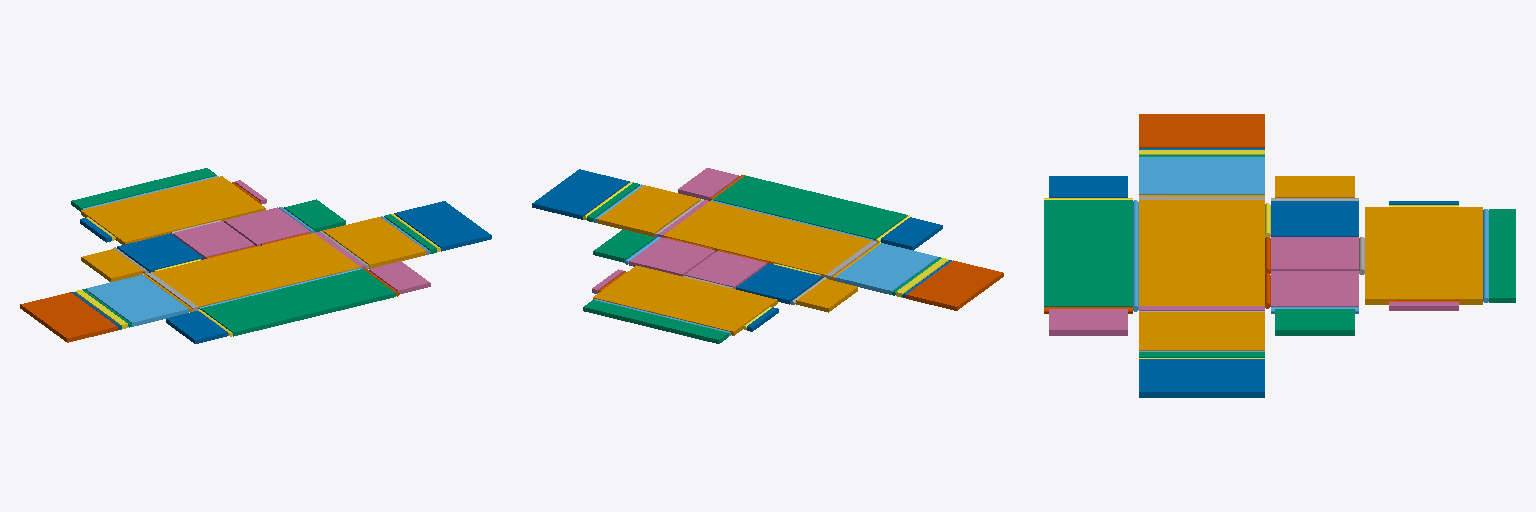
--- What the picture shows (computed from the rendered views, not written in the file) ---
3 views of the same robot in one strip: view 1: azimuth 30°, elevation 25°; view 2: azimuth 150°, elevation 25°; view 3: azimuth 270°, elevation 25° (orthographic).
Model box with 39 links and 38 joints (18 revolute, 20 fixed), rooted at bottom, posed every joint at zero.
Links seen in each view (by area): view 1: bottom, Ztop, sideB, B1, B3, B2, B4, sideARIGHT, sideALEFT, ZsideA, ZT3, sideB1 (+3 smaller); view 2: bottom, Ztop, sideB, B1, B3, B2, B4, sideALEFT, ZT3, sideARIGHT, ZsideA, sideA1 (+3 smaller); view 3: bottom, Ztop, sideB, B3, B4, B1, B2, sideALEFT, sideARIGHT, ZsideA, ZT3, sideA2 (+9 smaller).
Link boxes in pixels (x1=…): bottom: x1=152, y1=233, x2=360, y2=307; Ztop: x1=81, y1=176, x2=265, y2=244; sideB: x1=201, y1=269, x2=395, y2=336; B1: x1=85, y1=275, x2=188, y2=326; B3: x1=323, y1=217, x2=426, y2=268; B2: x1=20, y1=292, x2=117, y2=342; B4: x1=394, y1=201, x2=491, y2=251; sideARIGHT: x1=224, y1=207, x2=310, y2=246; sideALEFT: x1=117, y1=233, x2=202, y2=272; ZsideA: x1=173, y1=221, x2=254, y2=259; ZT3: x1=71, y1=168, x2=216, y2=211; sideB1: x1=166, y1=311, x2=227, y2=343; bottom: x1=663, y1=201, x2=871, y2=277; Ztop: x1=593, y1=265, x2=777, y2=335; sideB: x1=713, y1=175, x2=907, y2=239; B1: x1=835, y1=243, x2=938, y2=294; B3: x1=597, y1=185, x2=700, y2=236; B2: x1=906, y1=260, x2=1003, y2=310; B4: x1=532, y1=169, x2=629, y2=219; sideALEFT: x1=736, y1=264, x2=822, y2=304; ZT3: x1=583, y1=300, x2=728, y2=343; sideARIGHT: x1=629, y1=237, x2=714, y2=276; ZsideA: x1=685, y1=251, x2=766, y2=288; sideA1: x1=796, y1=279, x2=857, y2=312; bottom: x1=1139, y1=200, x2=1264, y2=305; Ztop: x1=1365, y1=207, x2=1482, y2=304; sideB: x1=1044, y1=200, x2=1132, y2=306; B3: x1=1139, y1=312, x2=1264, y2=350; B4: x1=1139, y1=359, x2=1264, y2=397; B1: x1=1139, y1=157, x2=1264, y2=194; B2: x1=1139, y1=114, x2=1264, y2=147; sideALEFT: x1=1271, y1=201, x2=1358, y2=236; sideARIGHT: x1=1271, y1=271, x2=1358, y2=306; ZsideA: x1=1271, y1=237, x2=1358, y2=270; ZT3: x1=1489, y1=209, x2=1515, y2=302; sideA2: x1=1275, y1=309, x2=1354, y2=335.
Size in the robot's own frame: 5.23 by 3.75 by 0.0516 metres.
Geometry: primitives only (box / cylinder / sphere), no mesh files.

URDF robot description (box):
<?xml version="1.0"?>
<robot name="box">
 <link name="bottom">
  <inertial>
    <mass value="1"/>
    <inertia ixx="0.3335416666666667" ixy="0" ixz="0" iyy="0.41666666666666663" iyz="0" izz="0.08354166666666665"/>
  </inertial>
  <visual>
    <origin rpy="0 0 0" xyz="0 0 0"/>
    <geometry>
      <box size="2.0 1.0 0.05"/>
    </geometry>
  </visual>
  <collision>
    <origin rpy="0 0 0" xyz="0 0 0"/>
    <geometry>
      <box size="2.0 1.0 0.05"/>
    </geometry>
  </collision>
 </link>

 <link name="bottom-sideB">
  <inertial>
    <mass value="1"/>
    <inertia ixx="0.33348958333333334" ixy="0" ixz="0" iyy="0.33348958333333334" iyz="0" izz="0.00015625000000000003"/>
  </inertial>
  <visual>
    <origin rpy="0 1.57 0" xyz="0 -0.525 0"/>
    <geometry>
      <cylinder length="2.0" radius="0.025"/>
    </geometry>
  </visual>
  <collision>
    <origin rpy="0 1.57 0" xyz="0 -0.525 0"/>
    <geometry>
      <cylinder length="2.0" radius="0.025"/>
    </geometry>
  </collision>
 </link>

<joint name="joint_fixed_bottom_bottom-sideB" type="fixed">
  <origin rpy="0 0 0" xyz="0 0 0"/>
  <parent link="bottom"/>
  <child link="bottom-sideB"/>
</joint>

 <link name="sideB">
  <inertial>
    <mass value="1"/>
    <inertia ixx="0.3335416666666667" ixy="0" ixz="0" iyy="0.37416666666666665" iyz="0" izz="0.04104166666666666"/>
  </inertial>
  <visual>
    <origin rpy="0 0 0" xyz="0 -0.375 0"/>
    <geometry>
      <box size="2.0 0.7 0.05"/>
    </geometry>
  </visual>
  <collision>
    <origin rpy="0 0 0" xyz="0 -0.375 0"/>
    <geometry>
      <box size="2.0 0.7 0.05"/>
    </geometry>
  </collision>
 </link>

<joint name="joint_revolute_bottom-sideB_sideB_Z" type="revolute">
  <origin rpy="0 0 0" xyz="0 -0.525 0"/>
  <parent link="bottom-sideB"/>
  <child link="sideB"/>
  <axis xyz="1 0 0"/>
  <dynamics damping="0.01" friction="0.5"/>
  <limit lower="-1.57" upper="1.57" effort="0.01" velocity="100"/>
</joint>

 <link name="bottom-sideALEFT">
  <inertial>
    <mass value="1"/>
    <inertia ixx="0.02628958333333334" ixy="0" ixz="0" iyy="0.02628958333333334" iyz="0" izz="0.00015625000000000003"/>
  </inertial>
  <visual>
    <origin rpy="0 1.57 0" xyz="-0.66 0.525 0"/>
    <geometry>
      <cylinder length="0.56" radius="0.025"/>
    </geometry>
  </visual>
  <collision>
    <origin rpy="0 1.57 0" xyz="-0.66 0.525 0"/>
    <geometry>
      <cylinder length="0.56" radius="0.025"/>
    </geometry>
  </collision>
 </link>

<joint name="joint_fixed_bottom_bottom-sideALEFT" type="fixed">
  <origin rpy="0 0 0" xyz="0 0 0"/>
  <parent link="bottom"/>
  <child link="bottom-sideALEFT"/>
</joint>

 <link name="sideALEFT">
  <inertial>
    <mass value="1"/>
    <inertia ixx="0.03650833333333334" ixy="0" ixz="0" iyy="0.07713333333333333" iyz="0" izz="0.04104166666666666"/>
  </inertial>
  <visual>
    <origin rpy="0 0 0" xyz="-0.66 0.375 0"/>
    <geometry>
      <box size="0.66 0.7 0.05"/>
    </geometry>
  </visual>
  <collision>
    <origin rpy="0 0 0" xyz="-0.66 0.375 0"/>
    <geometry>
      <box size="0.66 0.7 0.05"/>
    </geometry>
  </collision>
 </link>

<joint name="joint_revolute_bottom-sideALEFT_sideALEFT_Z" type="revolute">
  <origin rpy="0 0 0" xyz="0 0.525 0"/>
  <parent link="bottom-sideALEFT"/>
  <child link="sideALEFT"/>
  <axis xyz="1 0 0"/>
  <dynamics damping="0.01" friction="0.5"/>
  <limit lower="-1.57" upper="1.57" effort="0.01" velocity="100"/>
</joint>

 <link name="bottom-sideARIGHT">
  <inertial>
    <mass value="1"/>
    <inertia ixx="0.02628958333333334" ixy="0" ixz="0" iyy="0.02628958333333334" iyz="0" izz="0.00015625000000000003"/>
  </inertial>
  <visual>
    <origin rpy="0 1.57 0" xyz="0.66 0.525 0"/>
    <geometry>
      <cylinder length="0.56" radius="0.025"/>
    </geometry>
  </visual>
  <collision>
    <origin rpy="0 1.57 0" xyz="0.66 0.525 0"/>
    <geometry>
      <cylinder length="0.56" radius="0.025"/>
    </geometry>
  </collision>
 </link>

<joint name="joint_fixed_bottom_bottom-sideARIGHT" type="fixed">
  <origin rpy="0 0 0" xyz="0 0 0"/>
  <parent link="bottom"/>
  <child link="bottom-sideARIGHT"/>
</joint>

 <link name="sideARIGHT">
  <inertial>
    <mass value="1"/>
    <inertia ixx="0.03650833333333334" ixy="0" ixz="0" iyy="0.07713333333333333" iyz="0" izz="0.04104166666666666"/>
  </inertial>
  <visual>
    <origin rpy="0 0 0" xyz="0.66 0.375 0"/>
    <geometry>
      <box size="0.66 0.7 0.05"/>
    </geometry>
  </visual>
  <collision>
    <origin rpy="0 0 0" xyz="0.66 0.375 0"/>
    <geometry>
      <box size="0.66 0.7 0.05"/>
    </geometry>
  </collision>
 </link>

<joint name="joint_revolute_bottom-sideARIGHT_sideARIGHT_Z" type="revolute">
  <origin rpy="0 0 0" xyz="0 0.525 0"/>
  <parent link="bottom-sideARIGHT"/>
  <child link="sideARIGHT"/>
  <axis xyz="1 0 0"/>
  <dynamics damping="0.01" friction="0.5"/>
  <limit lower="-1.57" upper="1.57" effort="0.01" velocity="100"/>
</joint>

 <link name="sideA-left">
  <inertial>
    <mass value="1"/>
    <inertia ixx="0.04098958333333332" ixy="0" ixz="0" iyy="0.04098958333333332" iyz="0" izz="0.00015625000000000003"/>
  </inertial>
  <visual>
    <origin rpy="1.57 0 0" xyz="-1.025 0 0"/>
    <geometry>
      <cylinder length="0.7" radius="0.025"/>
    </geometry>
  </visual>
  <collision>
    <origin rpy="1.57 0 0" xyz="-1.025 0 0"/>
    <geometry>
      <cylinder length="0.7" radius="0.025"/>
    </geometry>
  </collision>
 </link>

<joint name="joint_fixed_sideALEFT_sideA-left" type="fixed">
  <origin rpy="0 0 0" xyz="0 0.375 0"/>
  <parent link="sideALEFT"/>
  <child link="sideA-left"/>
</joint>

 <link name="sideA1">
  <inertial>
    <mass value="1"/>
    <inertia ixx="0.013541666666666669" ixy="0" ixz="0" iyy="0.046408333333333336" iyz="0" izz="0.03328333333333333"/>
  </inertial>
  <visual>
    <origin rpy="0 0 0" xyz="-0.225 0 0"/>
    <geometry>
      <box size="0.4 0.63 0.05"/>
    </geometry>
  </visual>
  <collision>
    <origin rpy="0 0 0" xyz="-0.225 0 0"/>
    <geometry>
      <box size="0.4 0.63 0.05"/>
    </geometry>
  </collision>
 </link>

<joint name="joint_revolute_sideA-left_sideA1_Z" type="revolute">
  <origin rpy="0 0 0" xyz="-1.025 0 0"/>
  <parent link="sideA-left"/>
  <child link="sideA1"/>
  <axis xyz="0 1 0"/>
  <dynamics damping="0.01" friction="0.5"/>
  <limit lower="-1.57" upper="1.57" effort="0.01" velocity="100"/>
</joint>

 <link name="sideA-right">
  <inertial>
    <mass value="1"/>
    <inertia ixx="0.04098958333333332" ixy="0" ixz="0" iyy="0.04098958333333332" iyz="0" izz="0.00015625000000000003"/>
  </inertial>
  <visual>
    <origin rpy="1.57 0 0" xyz="1.025 0 0"/>
    <geometry>
      <cylinder length="0.7" radius="0.025"/>
    </geometry>
  </visual>
  <collision>
    <origin rpy="1.57 0 0" xyz="1.025 0 0"/>
    <geometry>
      <cylinder length="0.7" radius="0.025"/>
    </geometry>
  </collision>
 </link>

<joint name="joint_fixed_sideARIGHT_sideA-right" type="fixed">
  <origin rpy="0 0 0" xyz="0 0.375 0"/>
  <parent link="sideARIGHT"/>
  <child link="sideA-right"/>
</joint>

 <link name="sideA2">
  <inertial>
    <mass value="1"/>
    <inertia ixx="0.013541666666666669" ixy="0" ixz="0" iyy="0.046408333333333336" iyz="0" izz="0.03328333333333333"/>
  </inertial>
  <visual>
    <origin rpy="0 0 0" xyz="0.225 0 0"/>
    <geometry>
      <box size="0.4 0.63 0.05"/>
    </geometry>
  </visual>
  <collision>
    <origin rpy="0 0 0" xyz="0.225 0 0"/>
    <geometry>
      <box size="0.4 0.63 0.05"/>
    </geometry>
  </collision>
 </link>

<joint name="joint_revolute_sideA-right_sideA2_Z" type="revolute">
  <origin rpy="0 0 0" xyz="1.025 0 0"/>
  <parent link="sideA-right"/>
  <child link="sideA2"/>
  <axis xyz="0 1 0"/>
  <dynamics damping="0.01" friction="0.5"/>
  <limit lower="-1.57" upper="1.57" effort="0.01" velocity="100"/>
</joint>

 <link name="sideB-left">
  <inertial>
    <mass value="1"/>
    <inertia ixx="0.04098958333333332" ixy="0" ixz="0" iyy="0.04098958333333332" iyz="0" izz="0.00015625000000000003"/>
  </inertial>
  <visual>
    <origin rpy="1.57 0 0" xyz="-1.025 0 0"/>
    <geometry>
      <cylinder length="0.7" radius="0.025"/>
    </geometry>
  </visual>
  <collision>
    <origin rpy="1.57 0 0" xyz="-1.025 0 0"/>
    <geometry>
      <cylinder length="0.7" radius="0.025"/>
    </geometry>
  </collision>
 </link>

<joint name="joint_fixed_sideB_sideB-left" type="fixed">
  <origin rpy="0 0 0" xyz="0 -0.375 0"/>
  <parent link="sideB"/>
  <child link="sideB-left"/>
</joint>

 <link name="sideB1">
  <inertial>
    <mass value="1"/>
    <inertia ixx="0.013541666666666669" ixy="0" ixz="0" iyy="0.046408333333333336" iyz="0" izz="0.03328333333333333"/>
  </inertial>
  <visual>
    <origin rpy="0 0 0" xyz="-0.225 0 0"/>
    <geometry>
      <box size="0.4 0.63 0.05"/>
    </geometry>
  </visual>
  <collision>
    <origin rpy="0 0 0" xyz="-0.225 0 0"/>
    <geometry>
      <box size="0.4 0.63 0.05"/>
    </geometry>
  </collision>
 </link>

<joint name="joint_revolute_sideB-left_sideB1_Z" type="revolute">
  <origin rpy="0 0 0" xyz="-1.025 0 0"/>
  <parent link="sideB-left"/>
  <child link="sideB1"/>
  <axis xyz="0 1 0"/>
  <dynamics damping="0.01" friction="0.5"/>
  <limit lower="-1.57" upper="1.57" effort="0.01" velocity="100"/>
</joint>

 <link name="sideB-right">
  <inertial>
    <mass value="1"/>
    <inertia ixx="0.04098958333333332" ixy="0" ixz="0" iyy="0.04098958333333332" iyz="0" izz="0.00015625000000000003"/>
  </inertial>
  <visual>
    <origin rpy="1.57 0 0" xyz="1.025 0 0"/>
    <geometry>
      <cylinder length="0.7" radius="0.025"/>
    </geometry>
  </visual>
  <collision>
    <origin rpy="1.57 0 0" xyz="1.025 0 0"/>
    <geometry>
      <cylinder length="0.7" radius="0.025"/>
    </geometry>
  </collision>
 </link>

<joint name="joint_fixed_sideB_sideB-right" type="fixed">
  <origin rpy="0 0 0" xyz="0 -0.375 0"/>
  <parent link="sideB"/>
  <child link="sideB-right"/>
</joint>

 <link name="sideB2">
  <inertial>
    <mass value="1"/>
    <inertia ixx="0.013541666666666669" ixy="0" ixz="0" iyy="0.046408333333333336" iyz="0" izz="0.03328333333333333"/>
  </inertial>
  <visual>
    <origin rpy="0 0 0" xyz="0.225 0 0"/>
    <geometry>
      <box size="0.4 0.63 0.05"/>
    </geometry>
  </visual>
  <collision>
    <origin rpy="0 0 0" xyz="0.225 0 0"/>
    <geometry>
      <box size="0.4 0.63 0.05"/>
    </geometry>
  </collision>
 </link>

<joint name="joint_revolute_sideB-right_sideB2_Z" type="revolute">
  <origin rpy="0 0 0" xyz="1.025 0 0"/>
  <parent link="sideB-right"/>
  <child link="sideB2"/>
  <axis xyz="0 1 0"/>
  <dynamics damping="0.01" friction="0.5"/>
  <limit lower="-1.57" upper="1.57" effort="0.01" velocity="100"/>
</joint>

 <link name="padB1">
  <inertial>
    <mass value="1"/>
    <inertia ixx="0.0005604166666666667" ixy="0" ixz="0" iyy="0.08368541666666665" iyz="0" izz="0.08354166666666665"/>
  </inertial>
  <visual>
    <origin rpy="0 0 0" xyz="-1.0325 0 0"/>
    <geometry>
      <box size="0.065 1.0 0.05"/>
    </geometry>
  </visual>
  <collision>
    <origin rpy="0 0 0" xyz="-1.0325 0 0"/>
    <geometry>
      <box size="0.065 1.0 0.05"/>
    </geometry>
  </collision>
 </link>

<joint name="joint_fixed_bottom_padB1" type="fixed">
  <origin rpy="0 0 0" xyz="0 0 0"/>
  <parent link="bottom"/>
  <child link="padB1"/>
</joint>

 <link name="padB-cylinder">
  <inertial>
    <mass value="1"/>
    <inertia ixx="0.08348958333333333" ixy="0" ixz="0" iyy="0.08348958333333333" iyz="0" izz="0.00015625000000000003"/>
  </inertial>
  <visual>
    <origin rpy="1.57 0 0" xyz="-1.0899999999999999 0 0"/>
    <geometry>
      <cylinder length="1.0" radius="0.025"/>
    </geometry>
  </visual>
  <collision>
    <origin rpy="1.57 0 0" xyz="-1.0899999999999999 0 0"/>
    <geometry>
      <cylinder length="1.0" radius="0.025"/>
    </geometry>
  </collision>
 </link>

<joint name="joint_fixed_padB1_padB-cylinder" type="fixed">
  <origin rpy="0 0 0" xyz="0 0 0"/>
  <parent link="padB1"/>
  <child link="padB-cylinder"/>
</joint>

 <link name="B1">
  <inertial>
    <mass value="1"/>
    <inertia ixx="0.04104166666666666" ixy="0" ixz="0" iyy="0.12416666666666666" iyz="0" izz="0.08354166666666665"/>
  </inertial>
  <visual>
    <origin rpy="0 0 0" xyz="-0.375 0 0"/>
    <geometry>
      <box size="0.7 1.0 0.05"/>
    </geometry>
  </visual>
  <collision>
    <origin rpy="0 0 0" xyz="-0.375 0 0"/>
    <geometry>
      <box size="0.7 1.0 0.05"/>
    </geometry>
  </collision>
 </link>

<joint name="joint_revolute_padB-cylinder_B1_Z" type="revolute">
  <origin rpy="0 0 0" xyz="-1.0899999999999999 0 0"/>
  <parent link="padB-cylinder"/>
  <child link="B1"/>
  <axis xyz="0 1 0"/>
  <dynamics damping="0.01" friction="0.5"/>
  <limit lower="-1.57" upper="1.57" effort="0.01" velocity="100"/>
</joint>

 <link name="padB2-cylinder">
  <inertial>
    <mass value="1"/>
    <inertia ixx="0.08348958333333333" ixy="0" ixz="0" iyy="0.08348958333333333" iyz="0" izz="0.00015625000000000003"/>
  </inertial>
  <visual>
    <origin rpy="1.57 0 0" xyz="-0.375 0 0"/>
    <geometry>
      <cylinder length="1.0" radius="0.025"/>
    </geometry>
  </visual>
  <collision>
    <origin rpy="1.57 0 0" xyz="-0.375 0 0"/>
    <geometry>
      <cylinder length="1.0" radius="0.025"/>
    </geometry>
  </collision>
 </link>

<joint name="joint_fixed_B1_padB2-cylinder" type="fixed">
  <origin rpy="0 0 0" xyz="-0.375 0 0"/>
  <parent link="B1"/>
  <child link="padB2-cylinder"/>
</joint>

 <link name="padB2">
  <inertial>
    <mass value="1"/>
    <inertia ixx="0.0007416666666666667" ixy="0" ixz="0" iyy="0.08386666666666666" iyz="0" izz="0.08354166666666665"/>
  </inertial>
  <visual>
    <origin rpy="0 0 0" xyz="-0.065 0 0"/>
    <geometry>
      <box size="0.08 1.0 0.05"/>
    </geometry>
  </visual>
  <collision>
    <origin rpy="0 0 0" xyz="-0.065 0 0"/>
    <geometry>
      <box size="0.08 1.0 0.05"/>
    </geometry>
  </collision>
 </link>

<joint name="joint_revolute_padB2-cylinder_padB2_Z" type="revolute">
  <origin rpy="0 0 0" xyz="-0.375 0 0"/>
  <parent link="padB2-cylinder"/>
  <child link="padB2"/>
  <axis xyz="0 1 0"/>
  <dynamics damping="0.01" friction="0.5"/>
  <limit lower="-1.57" upper="1.57" effort="0.01" velocity="100"/>
</joint>

 <link name="B2-cylinder">
  <inertial>
    <mass value="1"/>
    <inertia ixx="0.08348958333333333" ixy="0" ixz="0" iyy="0.08348958333333333" iyz="0" izz="0.00015625000000000003"/>
  </inertial>
  <visual>
    <origin rpy="1.57 0 0" xyz="-0.065 0 0"/>
    <geometry>
      <cylinder length="1.0" radius="0.025"/>
    </geometry>
  </visual>
  <collision>
    <origin rpy="1.57 0 0" xyz="-0.065 0 0"/>
    <geometry>
      <cylinder length="1.0" radius="0.025"/>
    </geometry>
  </collision>
 </link>

<joint name="joint_fixed_padB2_B2-cylinder" type="fixed">
  <origin rpy="0 0 0" xyz="-0.065 0 0"/>
  <parent link="padB2"/>
  <child link="B2-cylinder"/>
</joint>

 <link name="B2">
  <inertial>
    <mass value="1"/>
    <inertia ixx="0.03224166666666667" ixy="0" ixz="0" iyy="0.11536666666666667" iyz="0" izz="0.08354166666666665"/>
  </inertial>
  <visual>
    <origin rpy="0 0 0" xyz="-0.335 0 0"/>
    <geometry>
      <box size="0.62 1.0 0.05"/>
    </geometry>
  </visual>
  <collision>
    <origin rpy="0 0 0" xyz="-0.335 0 0"/>
    <geometry>
      <box size="0.62 1.0 0.05"/>
    </geometry>
  </collision>
 </link>

<joint name="joint_revolute_B2-cylinder_B2_Z" type="revolute">
  <origin rpy="0 0 0" xyz="-0.065 0 0"/>
  <parent link="B2-cylinder"/>
  <child link="B2"/>
  <axis xyz="0 1 0"/>
  <dynamics damping="0.01" friction="0.5"/>
  <limit lower="-1.57" upper="1.57" effort="0.01" velocity="100"/>
</joint>

 <link name="padB3">
  <inertial>
    <mass value="1"/>
    <inertia ixx="0.0005604166666666667" ixy="0" ixz="0" iyy="0.08368541666666665" iyz="0" izz="0.08354166666666665"/>
  </inertial>
  <visual>
    <origin rpy="0 0 0" xyz="1.0325 0 0"/>
    <geometry>
      <box size="0.065 1.0 0.05"/>
    </geometry>
  </visual>
  <collision>
    <origin rpy="0 0 0" xyz="1.0325 0 0"/>
    <geometry>
      <box size="0.065 1.0 0.05"/>
    </geometry>
  </collision>
 </link>

<joint name="joint_fixed_bottom_padB3" type="fixed">
  <origin rpy="0 0 0" xyz="0 0 0"/>
  <parent link="bottom"/>
  <child link="padB3"/>
</joint>

 <link name="padB3-cylinder">
  <inertial>
    <mass value="1"/>
    <inertia ixx="0.08348958333333333" ixy="0" ixz="0" iyy="0.08348958333333333" iyz="0" izz="0.00015625000000000003"/>
  </inertial>
  <visual>
    <origin rpy="1.57 0 0" xyz="1.0899999999999999 0 0"/>
    <geometry>
      <cylinder length="1.0" radius="0.025"/>
    </geometry>
  </visual>
  <collision>
    <origin rpy="1.57 0 0" xyz="1.0899999999999999 0 0"/>
    <geometry>
      <cylinder length="1.0" radius="0.025"/>
    </geometry>
  </collision>
 </link>

<joint name="joint_fixed_padB3_padB3-cylinder" type="fixed">
  <origin rpy="0 0 0" xyz="0 0 0"/>
  <parent link="padB3"/>
  <child link="padB3-cylinder"/>
</joint>

 <link name="B3">
  <inertial>
    <mass value="1"/>
    <inertia ixx="0.04104166666666666" ixy="0" ixz="0" iyy="0.12416666666666666" iyz="0" izz="0.08354166666666665"/>
  </inertial>
  <visual>
    <origin rpy="0 0 0" xyz="0.375 0 0"/>
    <geometry>
      <box size="0.7 1.0 0.05"/>
    </geometry>
  </visual>
  <collision>
    <origin rpy="0 0 0" xyz="0.375 0 0"/>
    <geometry>
      <box size="0.7 1.0 0.05"/>
    </geometry>
  </collision>
 </link>

<joint name="joint_revolute_padB3-cylinder_B3_Z" type="revolute">
  <origin rpy="0 0 0" xyz="1.0899999999999999 0 0"/>
  <parent link="padB3-cylinder"/>
  <child link="B3"/>
  <axis xyz="0 1 0"/>
  <dynamics damping="0.01" friction="0.5"/>
  <limit lower="-1.57" upper="1.57" effort="0.01" velocity="100"/>
</joint>

 <link name="padB4-cylinder">
  <inertial>
    <mass value="1"/>
    <inertia ixx="0.08348958333333333" ixy="0" ixz="0" iyy="0.08348958333333333" iyz="0" izz="0.00015625000000000003"/>
  </inertial>
  <visual>
    <origin rpy="1.57 0 0" xyz="0.375 0 0"/>
    <geometry>
      <cylinder length="1.0" radius="0.025"/>
    </geometry>
  </visual>
  <collision>
    <origin rpy="1.57 0 0" xyz="0.375 0 0"/>
    <geometry>
      <cylinder length="1.0" radius="0.025"/>
    </geometry>
  </collision>
 </link>

<joint name="joint_fixed_B3_padB4-cylinder" type="fixed">
  <origin rpy="0 0 0" xyz="0.375 0 0"/>
  <parent link="B3"/>
  <child link="padB4-cylinder"/>
</joint>

 <link name="padB4">
  <inertial>
    <mass value="1"/>
    <inertia ixx="0.0007416666666666667" ixy="0" ixz="0" iyy="0.08386666666666666" iyz="0" izz="0.08354166666666665"/>
  </inertial>
  <visual>
    <origin rpy="0 0 0" xyz="0.065 0 0"/>
    <geometry>
      <box size="0.08 1.0 0.05"/>
    </geometry>
  </visual>
  <collision>
    <origin rpy="0 0 0" xyz="0.065 0 0"/>
    <geometry>
      <box size="0.08 1.0 0.05"/>
    </geometry>
  </collision>
 </link>

<joint name="joint_revolute_padB4-cylinder_padB4_Z" type="revolute">
  <origin rpy="0 0 0" xyz="0.375 0 0"/>
  <parent link="padB4-cylinder"/>
  <child link="padB4"/>
  <axis xyz="0 1 0"/>
  <dynamics damping="0.01" friction="0.5"/>
  <limit lower="-1.57" upper="1.57" effort="0.01" velocity="100"/>
</joint>

 <link name="B4-cylinder">
  <inertial>
    <mass value="1"/>
    <inertia ixx="0.08348958333333333" ixy="0" ixz="0" iyy="0.08348958333333333" iyz="0" izz="0.00015625000000000003"/>
  </inertial>
  <visual>
    <origin rpy="1.57 0 0" xyz="0.065 0 0"/>
    <geometry>
      <cylinder length="1.0" radius="0.025"/>
    </geometry>
  </visual>
  <collision>
    <origin rpy="1.57 0 0" xyz="0.065 0 0"/>
    <geometry>
      <cylinder length="1.0" radius="0.025"/>
    </geometry>
  </collision>
 </link>

<joint name="joint_fixed_padB4_B4-cylinder" type="fixed">
  <origin rpy="0 0 0" xyz="0.065 0 0"/>
  <parent link="padB4"/>
  <child link="B4-cylinder"/>
</joint>

 <link name="B4">
  <inertial>
    <mass value="1"/>
    <inertia ixx="0.03224166666666667" ixy="0" ixz="0" iyy="0.11536666666666667" iyz="0" izz="0.08354166666666665"/>
  </inertial>
  <visual>
    <origin rpy="0 0 0" xyz="0.335 0 0"/>
    <geometry>
      <box size="0.62 1.0 0.05"/>
    </geometry>
  </visual>
  <collision>
    <origin rpy="0 0 0" xyz="0.335 0 0"/>
    <geometry>
      <box size="0.62 1.0 0.05"/>
    </geometry>
  </collision>
 </link>

<joint name="joint_revolute_B4-cylinder_B4_Z" type="revolute">
  <origin rpy="0 0 0" xyz="0.065 0 0"/>
  <parent link="B4-cylinder"/>
  <child link="B4"/>
  <axis xyz="0 1 0"/>
  <dynamics damping="0.01" friction="0.5"/>
  <limit lower="-1.57" upper="1.57" effort="0.01" velocity="100"/>
</joint>

 <link name="zbottom-ZsideA">
  <inertial>
    <mass value="1"/>
    <inertia ixx="0.03116458333333333" ixy="0" ixz="0" iyy="0.03116458333333333" iyz="0" izz="0.00015625000000000003"/>
  </inertial>
  <visual>
    <origin rpy="0 1.57 0" xyz="0 0.525 0"/>
    <geometry>
      <cylinder length="0.61" radius="0.025"/>
    </geometry>
  </visual>
  <collision>
    <origin rpy="0 1.57 0" xyz="0 0.525 0"/>
    <geometry>
      <cylinder length="0.61" radius="0.025"/>
    </geometry>
  </collision>
 </link>

<joint name="joint_fixed_bottom_zbottom-ZsideA" type="fixed">
  <origin rpy="0 0 0" xyz="0 0 0"/>
  <parent link="bottom"/>
  <child link="zbottom-ZsideA"/>
</joint>

 <link name="ZsideA">
  <inertial>
    <mass value="1"/>
    <inertia ixx="0.031216666666666663" ixy="0" ixz="0" iyy="0.07184166666666665" iyz="0" izz="0.04104166666666666"/>
  </inertial>
  <visual>
    <origin rpy="0 0 0" xyz="0 0.375 0"/>
    <geometry>
      <box size="0.61 0.7 0.05"/>
    </geometry>
  </visual>
  <collision>
    <origin rpy="0 0 0" xyz="0 0.375 0"/>
    <geometry>
      <box size="0.61 0.7 0.05"/>
    </geometry>
  </collision>
 </link>

<joint name="joint_revolute_zbottom-ZsideA_ZsideA_Z" type="revolute">
  <origin rpy="0 0 0" xyz="0 0.525 0"/>
  <parent link="zbottom-ZsideA"/>
  <child link="ZsideA"/>
  <axis xyz="1 0 0"/>
  <dynamics damping="0.01" friction="0.5"/>
  <limit lower="-1.57" upper="1.57" effort="0.01" velocity="100"/>
</joint>

 <link name="ZsideA-top">
  <inertial>
    <mass value="1"/>
    <inertia ixx="0.03116458333333333" ixy="0" ixz="0" iyy="0.03116458333333333" iyz="0" izz="0.00015625000000000003"/>
  </inertial>
  <visual>
    <origin rpy="0 1.57 0" xyz="0 0.375 0"/>
    <geometry>
      <cylinder length="0.61" radius="0.025"/>
    </geometry>
  </visual>
  <collision>
    <origin rpy="0 1.57 0" xyz="0 0.375 0"/>
    <geometry>
      <cylinder length="0.61" radius="0.025"/>
    </geometry>
  </collision>
 </link>

<joint name="joint_fixed_ZsideA_ZsideA-top" type="fixed">
  <origin rpy="0 0 0" xyz="0 0.375 0"/>
  <parent link="ZsideA"/>
  <child link="ZsideA-top"/>
</joint>

 <link name="Ztop">
  <inertial>
    <mass value="1"/>
    <inertia ixx="0.25250833333333333" ixy="0" ixz="0" iyy="0.32515208333333334" iyz="0" izz="0.07306041666666667"/>
  </inertial>
  <visual>
    <origin rpy="0 0 0" xyz="0 0.49250000000000005 0"/>
    <geometry>
      <box size="1.74 0.935 0.05"/>
    </geometry>
  </visual>
  <collision>
    <origin rpy="0 0 0" xyz="0 0.49250000000000005 0"/>
    <geometry>
      <box size="1.74 0.935 0.05"/>
    </geometry>
  </collision>
 </link>

<joint name="joint_revolute_ZsideA-top_Ztop_Z" type="revolute">
  <origin rpy="0 0 0" xyz="0 0.375 0"/>
  <parent link="ZsideA-top"/>
  <child link="Ztop"/>
  <axis xyz="1 0 0"/>
  <dynamics damping="0.01" friction="0.5"/>
  <limit lower="-1.57" upper="1.57" effort="0.01" velocity="100"/>
</joint>

 <link name="ZT3-cylinder">
  <inertial>
    <mass value="1"/>
    <inertia ixx="0.23395833333333335" ixy="0" ixz="0" iyy="0.23395833333333335" iyz="0" izz="0.00015625000000000003"/>
  </inertial>
  <visual>
    <origin rpy="0 1.57 0" xyz="0 0.49250000000000005 0"/>
    <geometry>
      <cylinder length="1.675" radius="0.025"/>
    </geometry>
  </visual>
  <collision>
    <origin rpy="0 1.57 0" xyz="0 0.49250000000000005 0"/>
    <geometry>
      <cylinder length="1.675" radius="0.025"/>
    </geometry>
  </collision>
 </link>

<joint name="joint_fixed_Ztop_ZT3-cylinder" type="fixed">
  <origin rpy="0 0 0" xyz="0 0.49250000000000005 0"/>
  <parent link="Ztop"/>
  <child link="ZT3-cylinder"/>
</joint>

 <link name="ZT3">
  <inertial>
    <mass value="1"/>
    <inertia ixx="0.23401041666666667" ixy="0" ixz="0" iyy="0.2374770833333333" iyz="0" izz="0.003883333333333333"/>
  </inertial>
  <visual>
    <origin rpy="0 0 0" xyz="0 0.13 0"/>
    <geometry>
      <box size="1.675 0.21 0.05"/>
    </geometry>
  </visual>
  <collision>
    <origin rpy="0 0 0" xyz="0 0.13 0"/>
    <geometry>
      <box size="1.675 0.21 0.05"/>
    </geometry>
  </collision>
 </link>

<joint name="joint_revolute_ZT3-cylinder_ZT3_Z" type="revolute">
  <origin rpy="0 0 0" xyz="0 0.49250000000000005 0"/>
  <parent link="ZT3-cylinder"/>
  <child link="ZT3"/>
  <axis xyz="1 0 0"/>
  <dynamics damping="0.01" friction="0.5"/>
  <limit lower="-1.57" upper="1.57" effort="0.01" velocity="100"/>
</joint>

 <link name="ZTop-left">
  <inertial>
    <mass value="1"/>
    <inertia ixx="0.026383000000000004" ixy="0" ixz="0" iyy="0.026383000000000004" iyz="0" izz="0.00015625000000000003"/>
  </inertial>
  <visual>
    <origin rpy="1.57 0 0" xyz="-0.895 0.49250000000000005 0"/>
    <geometry>
      <cylinder length="0.561" radius="0.025"/>
    </geometry>
  </visual>
  <collision>
    <origin rpy="1.57 0 0" xyz="-0.895 0.49250000000000005 0"/>
    <geometry>
      <cylinder length="0.561" radius="0.025"/>
    </geometry>
  </collision>
 </link>

<joint name="joint_fixed_Ztop_ZTop-left" type="fixed">
  <origin rpy="0 0 0" xyz="0 0 0"/>
  <parent link="Ztop"/>
  <child link="ZTop-left"/>
</joint>

 <link name="ZT1">
  <inertial>
    <mass value="1"/>
    <inertia ixx="0.0006166666666666666" ixy="0" ixz="0" iyy="0.02663508333333334" iyz="0" izz="0.026435083333333338"/>
  </inertial>
  <visual>
    <origin rpy="0 0 0" xyz="-0.06 0.49250000000000005 0"/>
    <geometry>
      <box size="0.06999999999999999 0.561 0.05"/>
    </geometry>
  </visual>
  <collision>
    <origin rpy="0 0 0" xyz="-0.06 0.49250000000000005 0"/>
    <geometry>
      <box size="0.06999999999999999 0.561 0.05"/>
    </geometry>
  </collision>
 </link>

<joint name="joint_revolute_ZTop-left_ZT1_Z" type="revolute">
  <origin rpy="0 0 0" xyz="-0.895 0 0"/>
  <parent link="ZTop-left"/>
  <child link="ZT1"/>
  <axis xyz="0 1 0"/>
  <dynamics damping="0.01" friction="0.5"/>
  <limit lower="-1.57" upper="1.57" effort="0.01" velocity="100"/>
</joint>

 <link name="ZTop-right">
  <inertial>
    <mass value="1"/>
    <inertia ixx="0.026383000000000004" ixy="0" ixz="0" iyy="0.026383000000000004" iyz="0" izz="0.00015625000000000003"/>
  </inertial>
  <visual>
    <origin rpy="1.57 0 0" xyz="0.895 0.49250000000000005 0"/>
    <geometry>
      <cylinder length="0.561" radius="0.025"/>
    </geometry>
  </visual>
  <collision>
    <origin rpy="1.57 0 0" xyz="0.895 0.49250000000000005 0"/>
    <geometry>
      <cylinder length="0.561" radius="0.025"/>
    </geometry>
  </collision>
 </link>

<joint name="joint_fixed_Ztop_ZTop-right" type="fixed">
  <origin rpy="0 0 0" xyz="0 0 0"/>
  <parent link="Ztop"/>
  <child link="ZTop-right"/>
</joint>

 <link name="ZT2">
  <inertial>
    <mass value="1"/>
    <inertia ixx="0.0006166666666666666" ixy="0" ixz="0" iyy="0.02663508333333334" iyz="0" izz="0.026435083333333338"/>
  </inertial>
  <visual>
    <origin rpy="0 0 0" xyz="0.06 0.49250000000000005 0"/>
    <geometry>
      <box size="0.06999999999999999 0.561 0.05"/>
    </geometry>
  </visual>
  <collision>
    <origin rpy="0 0 0" xyz="0.06 0.49250000000000005 0"/>
    <geometry>
      <box size="0.06999999999999999 0.561 0.05"/>
    </geometry>
  </collision>
 </link>

<joint name="joint_revolute_ZTop-right_ZT2_Z" type="revolute">
  <origin rpy="0 0 0" xyz="0.895 0 0"/>
  <parent link="ZTop-right"/>
  <child link="ZT2"/>
  <axis xyz="0 1 0"/>
  <dynamics damping="0.01" friction="0.5"/>
  <limit lower="-1.57" upper="1.57" effort="0.01" velocity="100"/>
</joint>

  <klampt package_root="../../.." default_acc_max="4" >
  </klampt>
</robot>
